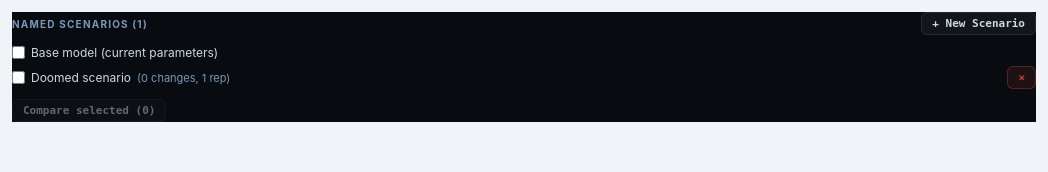
it: ScenarioManagerPanel › deletes a scenario and removes it from the list
Expected: the text "Doomed scenario" is shown, [31,70,131,85]
What coordinates should you click on to do the following:
click the button named "delete scenario doomed scenario"
I would click on:
 (1022, 78)
Its box is [1007,66,1036,89].
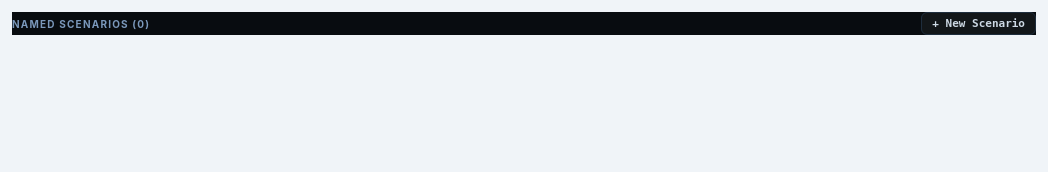
Now the text "Doomed scenario" is gone
